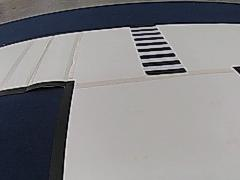CrossWalk: (129, 24, 187, 78)
